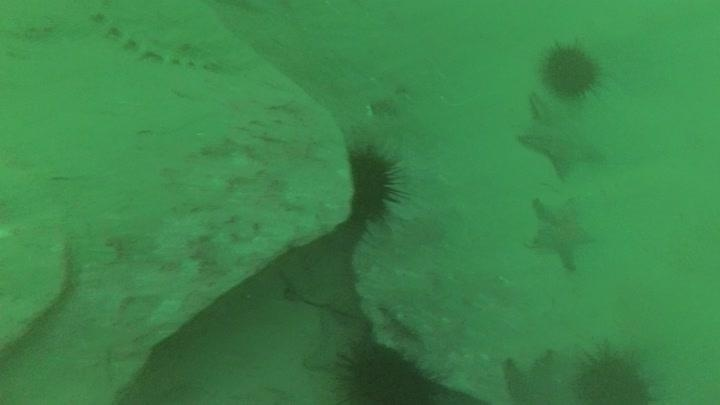echinus: (331, 337, 442, 403), (570, 340, 659, 404), (343, 140, 408, 226), (536, 37, 605, 101)
holothurian: (92, 3, 226, 73)
starfish: (514, 89, 609, 181), (525, 194, 599, 273), (498, 345, 588, 404), (299, 305, 370, 376)
